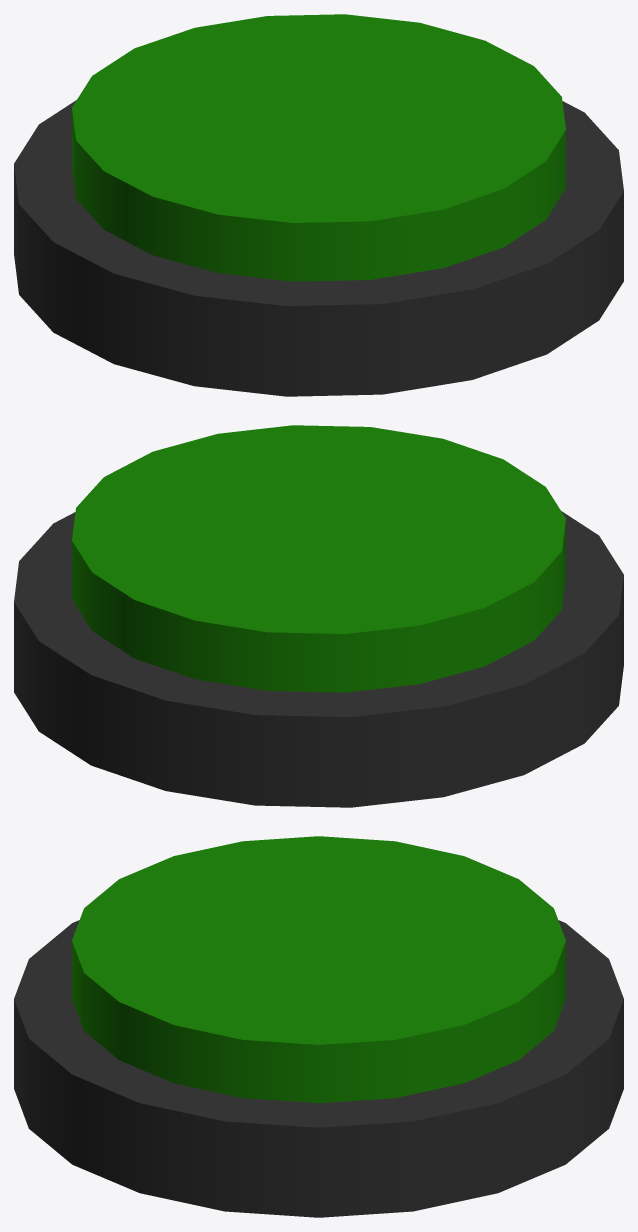
The model's file is Button_Green.fbx.
3 renders of one model, top to bottom at view 1: azimuth 30°, elevation 25°; view 2: azimuth 150°, elevation 25°; view 3: azimuth 270°, elevation 25°, orthographic.
Visible parts, largest first — view 1: Cylinder.001, Cylinder; view 2: Cylinder.001, Cylinder; view 3: Cylinder.001, Cylinder.
Boxes of the visible parts, box(x1,y1,x2,y2) form: Cylinder.001: box(72, 14, 565, 281); Cylinder: box(14, 100, 623, 396); Cylinder.001: box(72, 425, 565, 692); Cylinder: box(14, 511, 623, 807); Cylinder.001: box(72, 836, 565, 1103); Cylinder: box(14, 920, 623, 1217).
Bounding box in the file's own units: 178 × 47.76 × 178.
